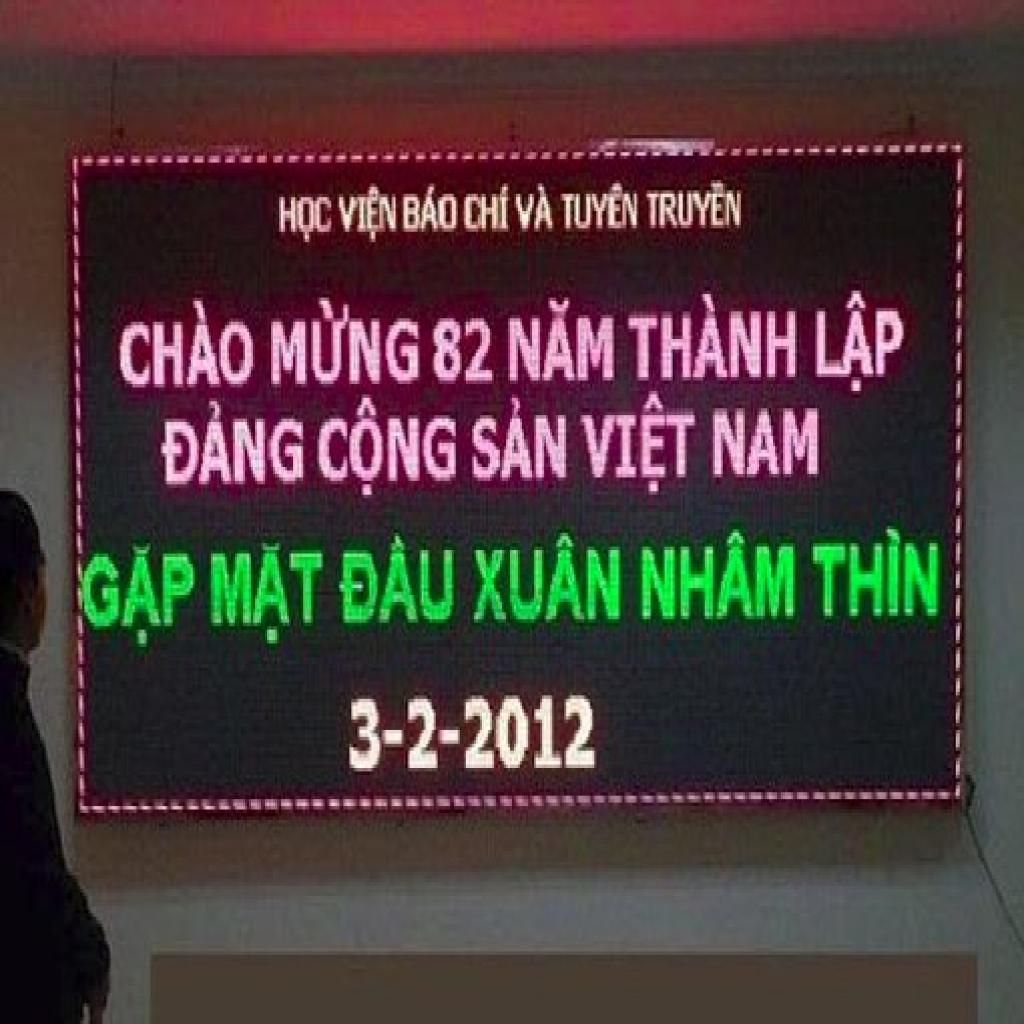text: (625, 287, 801, 388), (639, 529, 799, 630), (315, 394, 462, 502), (470, 529, 624, 630), (269, 297, 424, 391), (157, 398, 307, 495), (82, 536, 199, 658), (811, 522, 944, 623), (116, 301, 259, 394), (580, 391, 699, 502), (207, 540, 327, 650), (337, 533, 458, 633), (813, 284, 910, 398), (506, 294, 618, 388), (472, 394, 570, 488), (711, 405, 821, 484), (644, 176, 747, 236), (560, 176, 643, 236), (432, 312, 496, 388), (337, 183, 402, 249), (277, 190, 335, 249), (402, 183, 462, 239), (464, 183, 514, 239), (514, 180, 560, 239)
